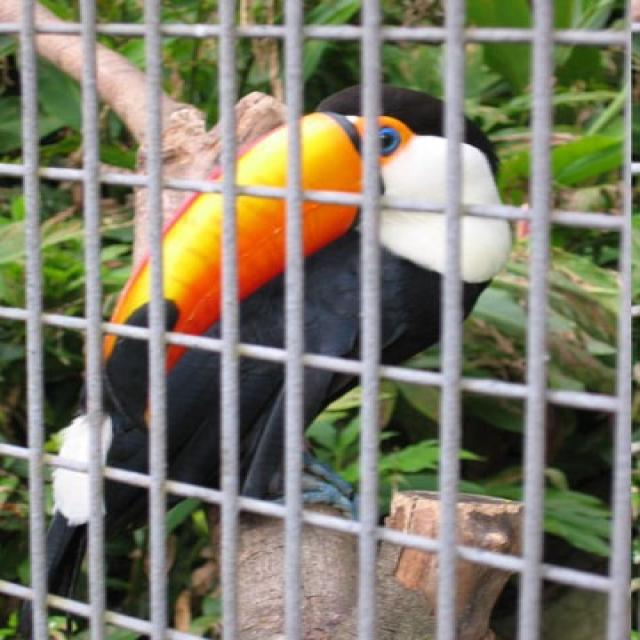bird: (16, 83, 510, 633)
